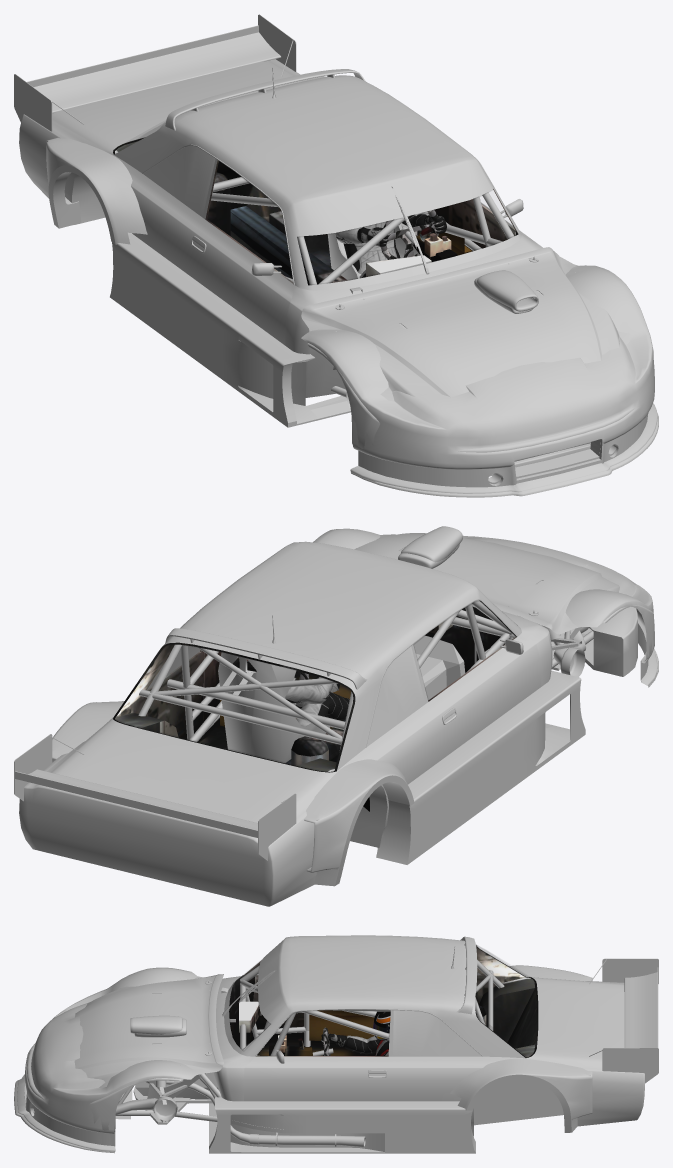
Rendered from Tor.FBX.
3 renders of one model, top to bottom at view 1: azimuth 30°, elevation 25°; view 2: azimuth 150°, elevation 25°; view 3: azimuth 270°, elevation 25°, orthographic. The views are drawn at different scales.
Visible parts, largest first — view 1: Tor_Carbody, Tor_Bumper02, Tor_Bumper01, Tor_Driver, Tor_SWheel; view 2: Tor_Carbody, Tor_Bumper01, Tor_Bumper02, Tor_Driver; view 3: Tor_Carbody, Tor_Bumper01, Tor_Bumper02, Tor_Driver, Tor_Helmet.
Part boxes in pixels (x1=…): Tor_Carbody: x1=14, y1=14, x2=590, y2=476; Tor_Bumper02: x1=301, y1=263, x2=658, y2=497; Tor_Bumper01: x1=301, y1=247, x2=657, y2=493; Tor_Driver: x1=334, y1=212, x2=446, y2=278; Tor_SWheel: x1=380, y1=209, x2=439, y2=259; Tor_Carbody: x1=14, y1=541, x2=637, y2=906; Tor_Bumper01: x1=354, y1=526, x2=657, y2=686; Tor_Bumper02: x1=313, y1=528, x2=658, y2=687; Tor_Driver: x1=233, y1=659, x2=349, y2=726; Tor_Carbody: x1=115, y1=935, x2=658, y2=1153; Tor_Bumper01: x1=17, y1=974, x2=223, y2=1151; Tor_Bumper02: x1=14, y1=967, x2=209, y2=1153; Tor_Driver: x1=321, y1=1033, x2=389, y2=1055; Tor_Helmet: x1=373, y1=1011, x2=390, y2=1040.
Size of what is drawn, in the model's own units: 203 by 131 by 502.
